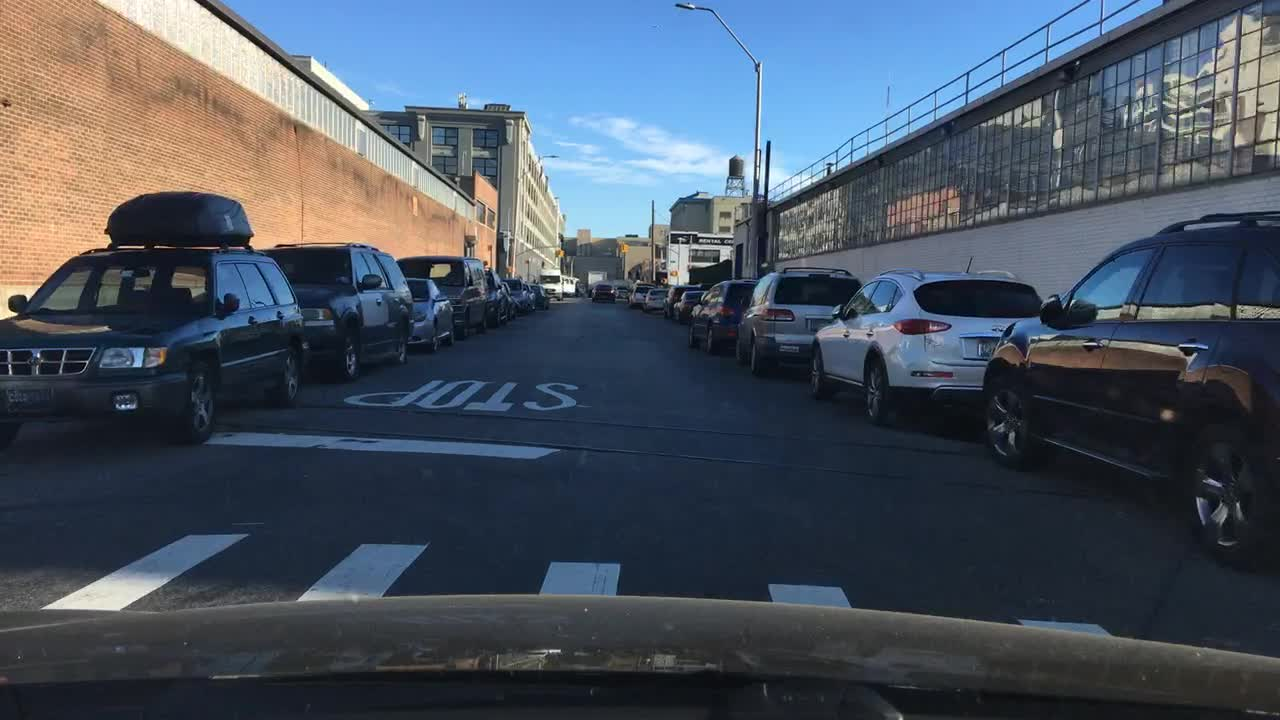car: (977, 208, 1278, 569), (0, 192, 311, 440), (804, 249, 1043, 424), (259, 238, 411, 381), (733, 263, 866, 376), (392, 249, 490, 339), (684, 275, 762, 352), (400, 273, 458, 355), (481, 265, 511, 326), (666, 283, 709, 324), (670, 290, 709, 327), (506, 273, 528, 317), (644, 288, 680, 314), (629, 281, 659, 307), (531, 283, 552, 310), (592, 280, 610, 304), (525, 285, 538, 315), (614, 284, 634, 302)
traffic light: (619, 239, 625, 254), (556, 248, 560, 260)
truck: (535, 268, 564, 304), (584, 269, 609, 296), (564, 274, 576, 297)
